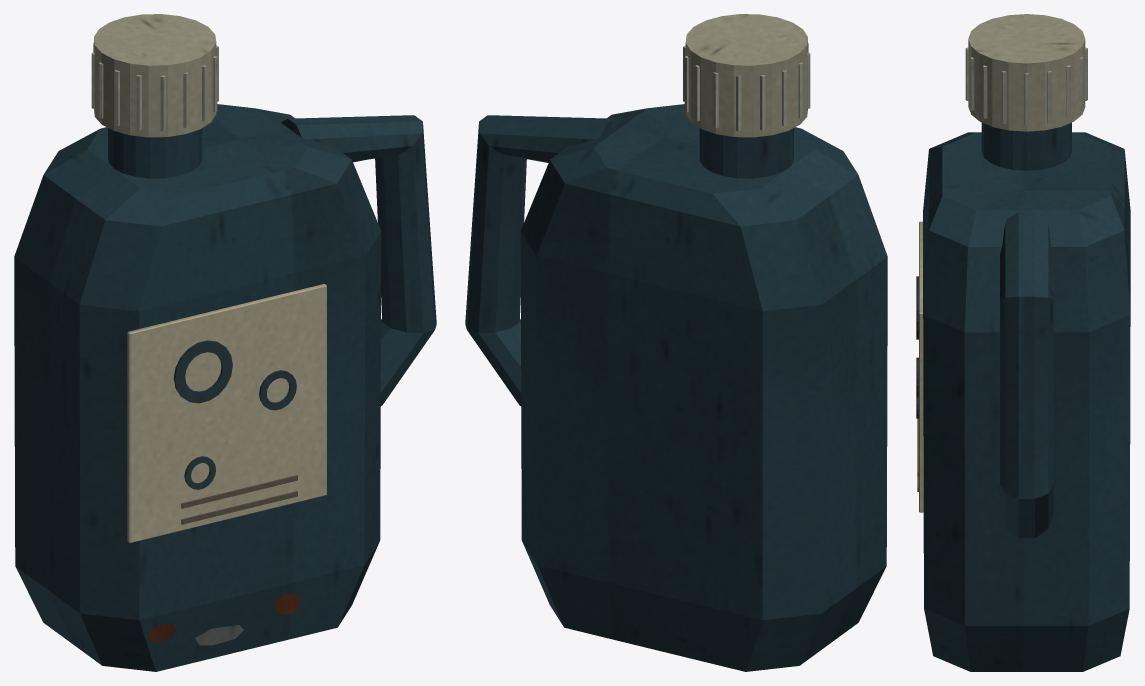
The model's file is handled_detergent_jug.glb.
3 renders of one model, left to right at view 1: azimuth 30°, elevation 25°; view 2: azimuth 150°, elevation 25°; view 3: azimuth 270°, elevation 25°, orthographic. The views are drawn at different scales.
Parts seen in each view (by area): view 1: handled_detergent_jug; view 2: handled_detergent_jug; view 3: handled_detergent_jug.
Part boxes in pixels (x1,y1,x2,y2): handled_detergent_jug: (14, 14, 436, 671); handled_detergent_jug: (465, 14, 887, 671); handled_detergent_jug: (916, 14, 1130, 671).
Size of the model in its own units: 0.2531 by 0.3665 by 0.128.
Materials: 8 (8 with a texture image).
